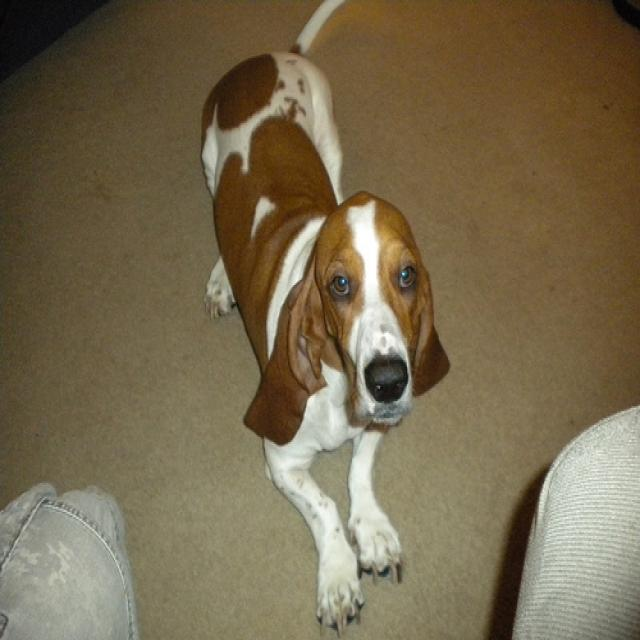dog-basset_hound: (193, 2, 460, 637)
